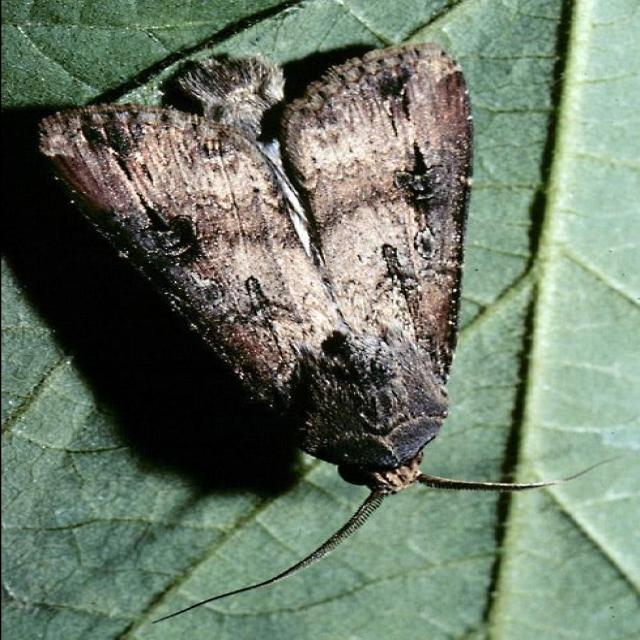black cutworm: (25, 31, 505, 548)
